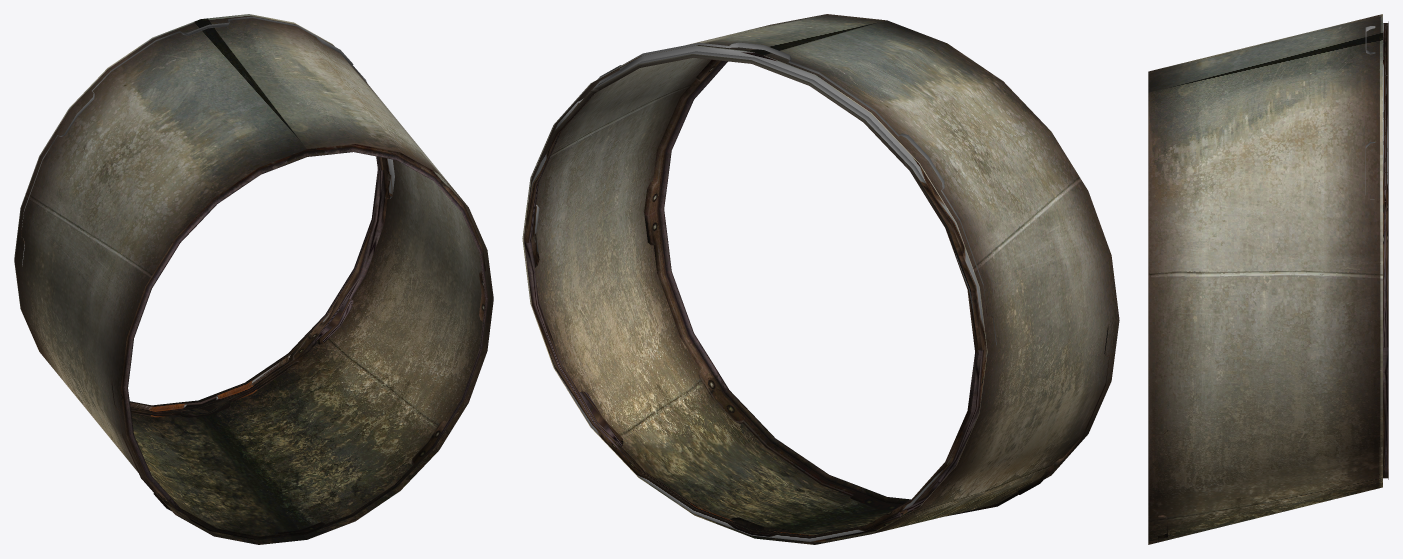
The model's file is flush_tunnel_02_07_straight_extrashort_up_15.DAE.
3 renders of one model, left to right at view 1: azimuth 30°, elevation 25°; view 2: azimuth 150°, elevation 25°; view 3: azimuth 270°, elevation 25°, orthographic. The views are drawn at different scales.
Visible parts, largest first — view 1: polySurface612; view 2: polySurface612; view 3: polySurface612.
Part boxes in pixels (x1,y1,x2,y2): polySurface612: (14,14,493,544); polySurface612: (522,14,1119,544); polySurface612: (1148,14,1388,544).
Size of the model in its own units: 4 by 4.53 by 2.02.
